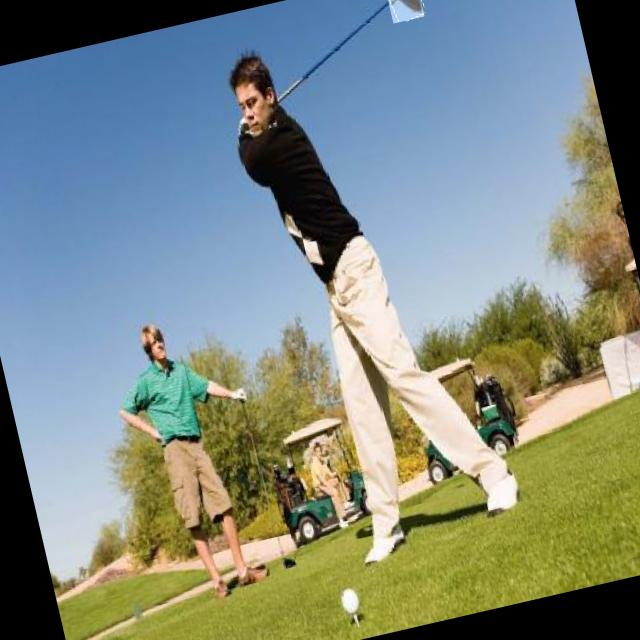club head: (384, 0, 424, 22)
